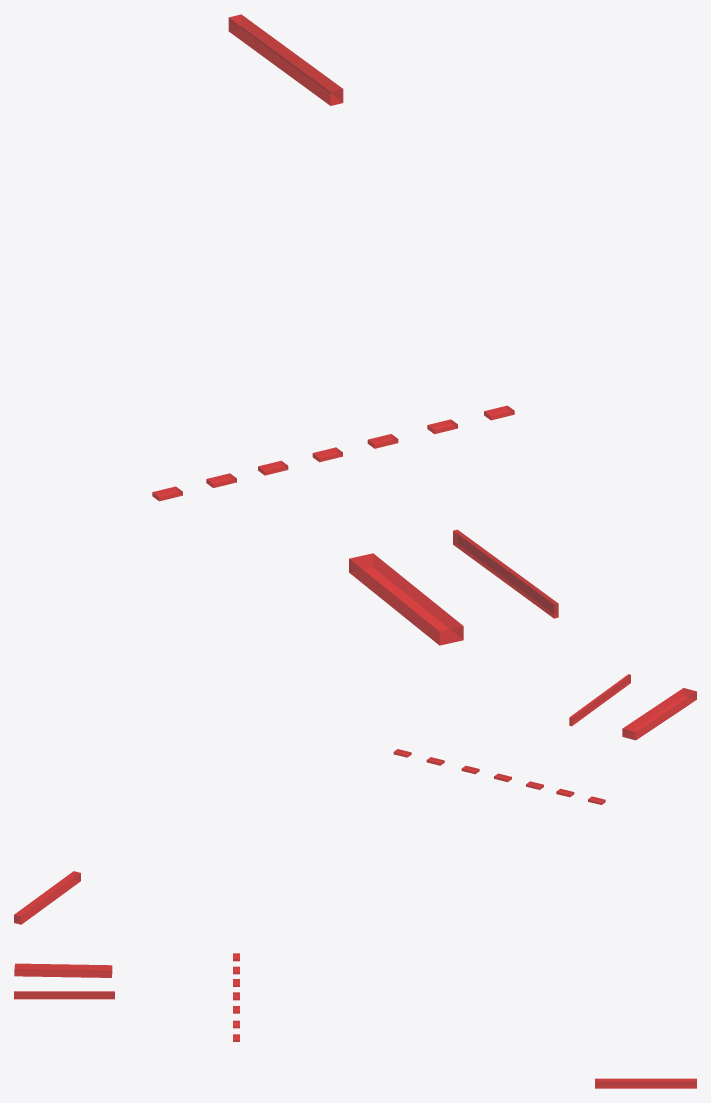
The model's file is Track_Weekly_Stadium_s.fbx.
3 renders of one model, top to bottom at view 1: azimuth 30°, elevation 25°; view 2: azimuth 150°, elevation 25°; view 3: azimuth 270°, elevation 25°, orthographic. The views are drawn at different scales.
Visible parts, largest first — view 1: polySurface1; view 2: polySurface1; view 3: polySurface1.
Boxes of the visible parts, x1,y1,x2,y2 form: polySurface1: [152, 14, 558, 645]; polySurface1: [14, 674, 696, 924]; polySurface1: [14, 953, 696, 1088].
Bounding box in the file's own units: 5874 × 146 × 12724.
